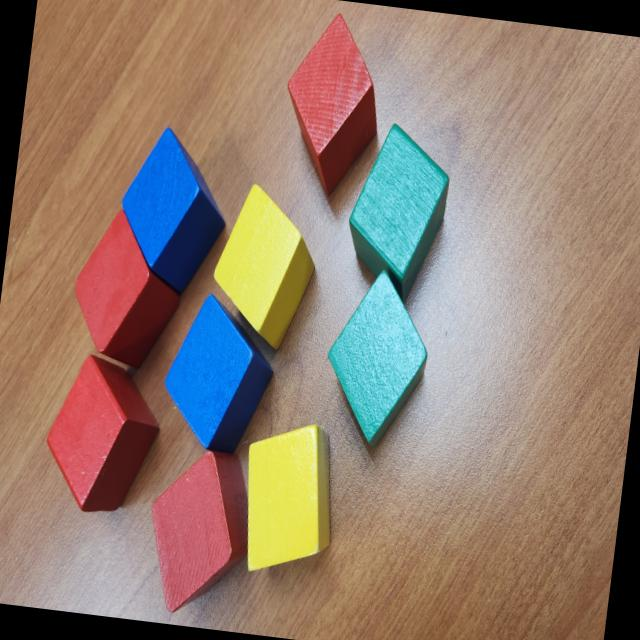blue: (111, 122, 236, 300), (154, 288, 283, 460)
green: (318, 265, 438, 454), (340, 118, 456, 308)
red: (272, 10, 392, 219), (138, 442, 264, 622), (39, 349, 168, 520), (66, 205, 191, 372)
yellow: (204, 180, 324, 356), (232, 416, 341, 582)
